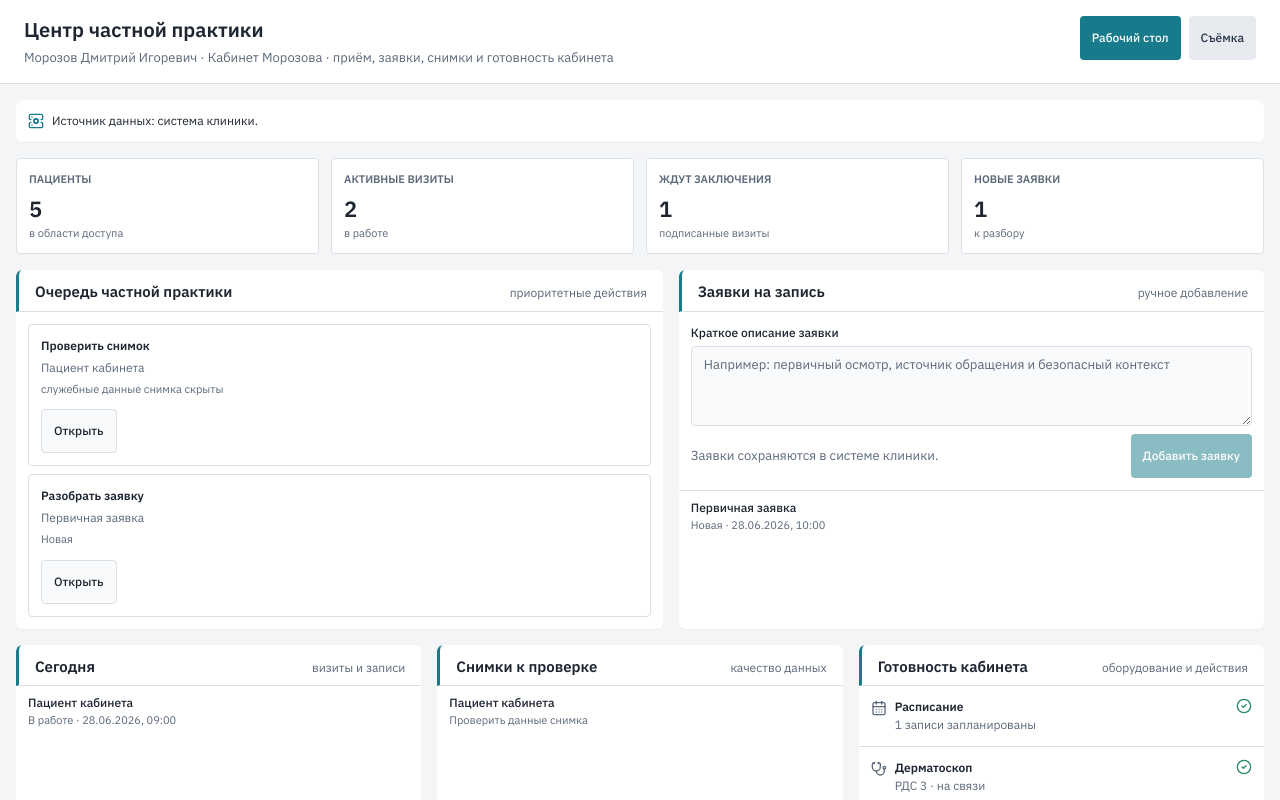
Test: PrivatePracticePage · private doctor practice center › renders the production private practice from working APIs and creates an intake request
Expected: the heading "Центр частной практики" is shown, left=24, top=16, right=264, bottom=43
Expected: the text "Источник данных: система клиники." is shown, left=52, top=112, right=258, bottom=130
Replace the text in the text box labelled "Краткое описание заявки" with "Новая заявка частного кабинета" at x=971, y=386, box left=691, top=346, right=1252, bottom=426
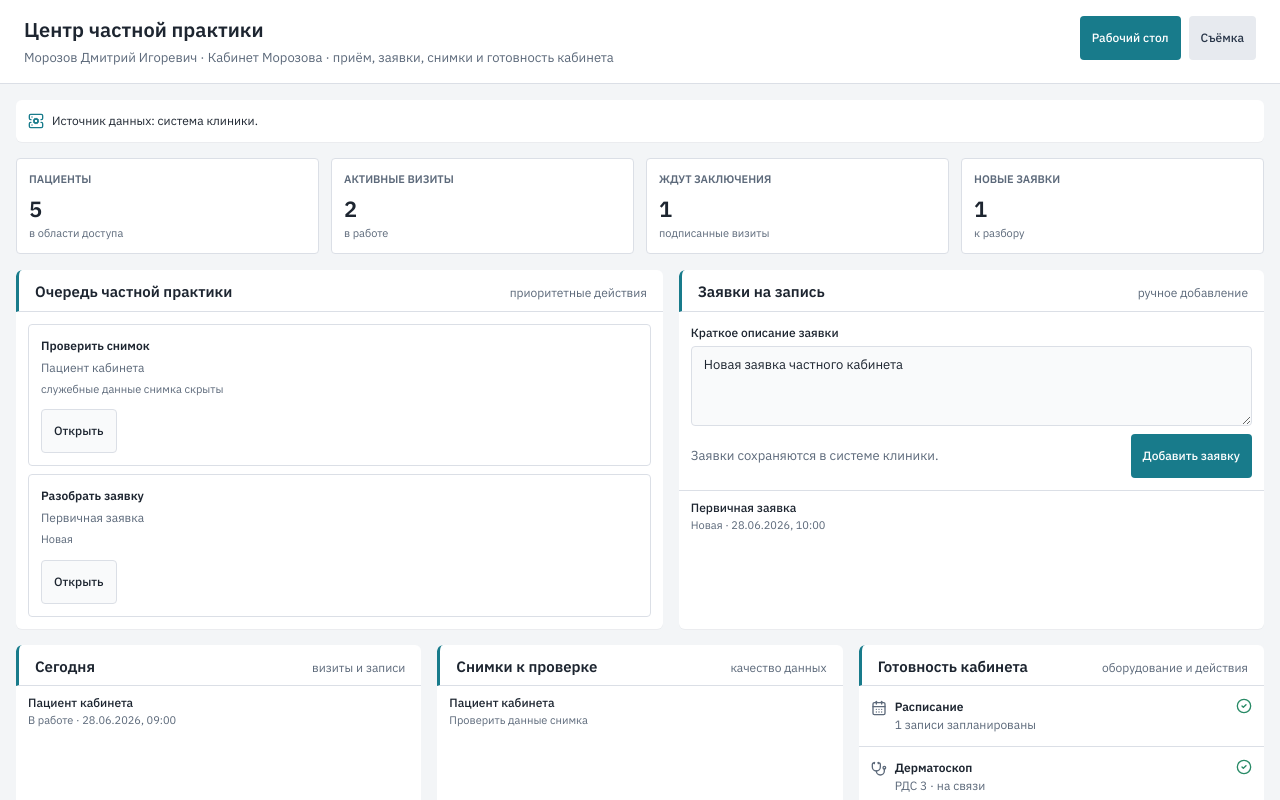
Click the button "Добавить заявку" at x=1191, y=456, box left=1131, top=434, right=1252, bottom=478
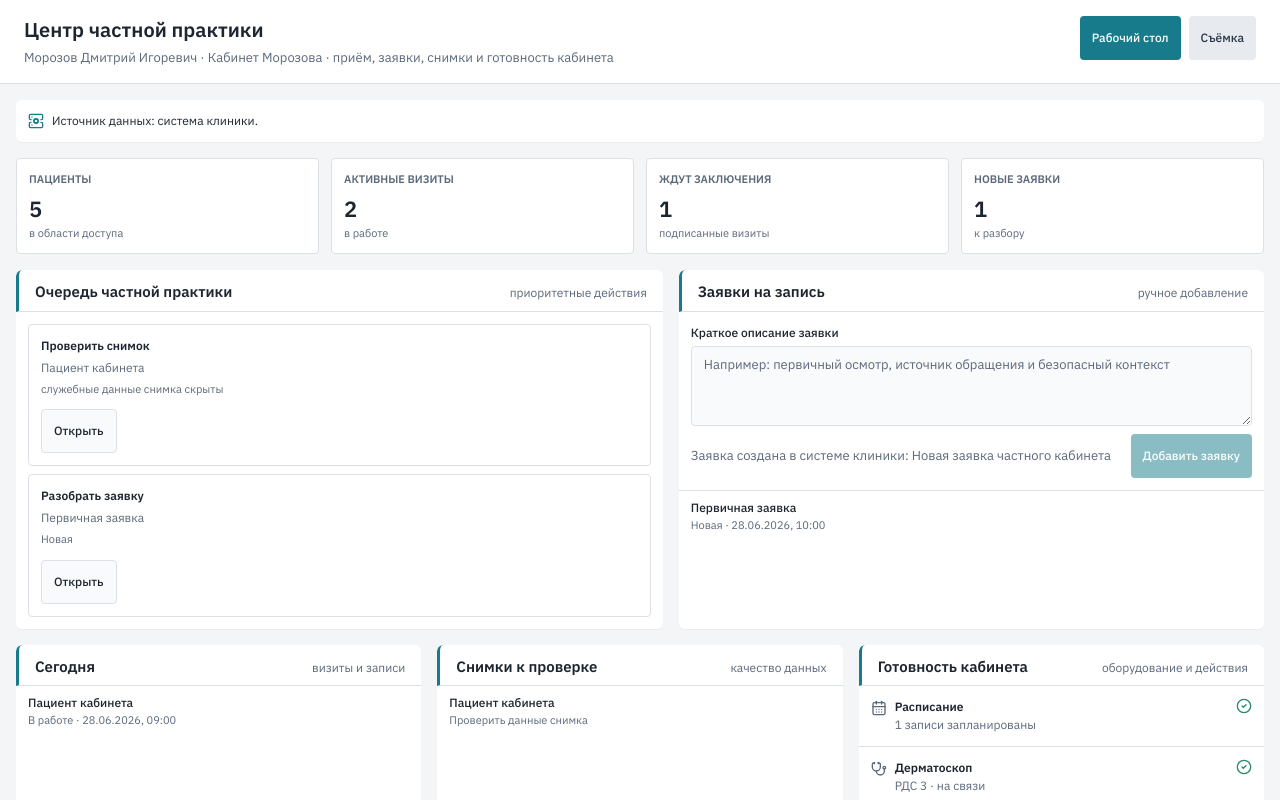
Expected: the text "Заявка создана в системе клиники: Новая заявка частного кабинета" is shown, left=691, top=446, right=1111, bottom=465
